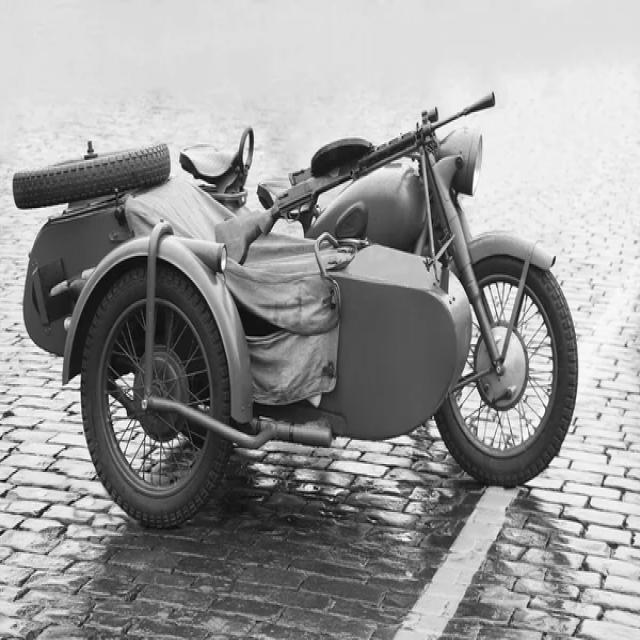Motorcycle: (12, 94, 578, 529)
